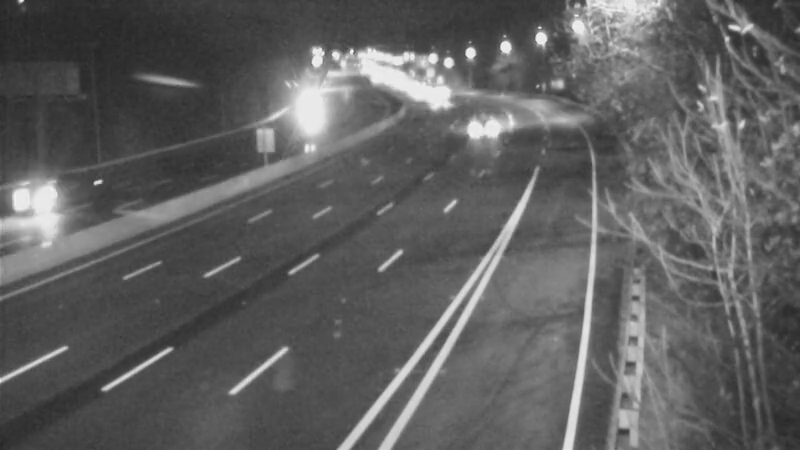vehicle: (6, 151, 86, 231), (411, 79, 461, 129), (458, 102, 508, 152), (288, 91, 338, 141)
